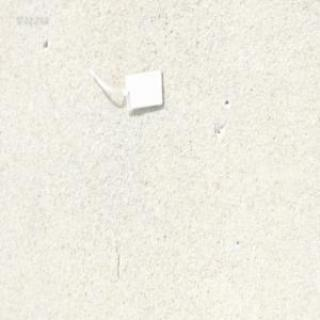LuggageTagtrack_idkeyframe: (86, 62, 164, 111)
